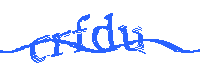c: (29, 31, 53, 62)
d: (91, 12, 115, 53)
f: (73, 14, 90, 53)
r: (51, 29, 72, 59)
u: (118, 23, 145, 55)
